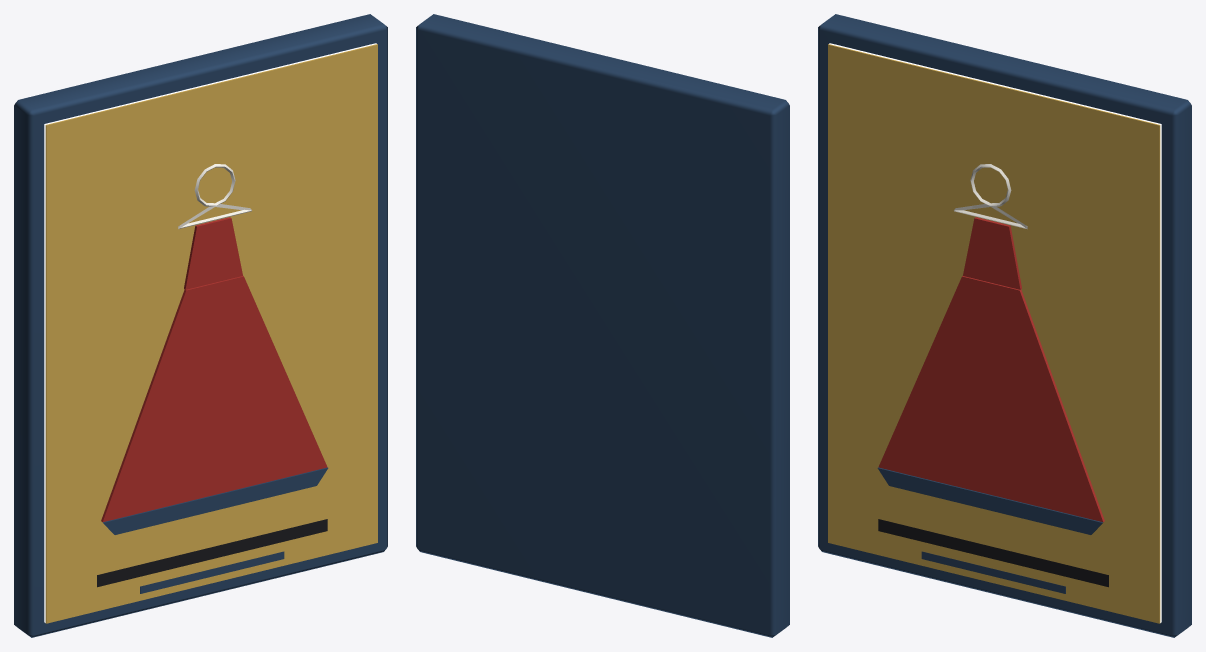
Rendered from ad_dress.glb.
3 views of the same model, side by side, from view 1: azimuth 30°, elevation 25°; view 2: azimuth 150°, elevation 25°; view 3: azimuth 330°, elevation 25° (orthographic).
Parts seen in each view (by area): view 1: ad_dress; view 2: ad_dress; view 3: ad_dress.
Part boxes in pixels (left/top/right/bottom): ad_dress: left=14, top=14, right=387, bottom=637; ad_dress: left=416, top=14, right=789, bottom=637; ad_dress: left=818, top=14, right=1191, bottom=637.
Bounding box in the file's own units: 2.5 × 3.5 × 0.292.
